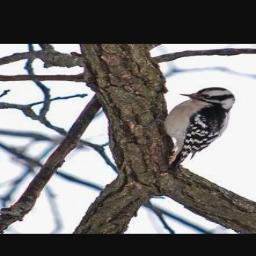Woodpecker: (146, 87, 236, 171)
